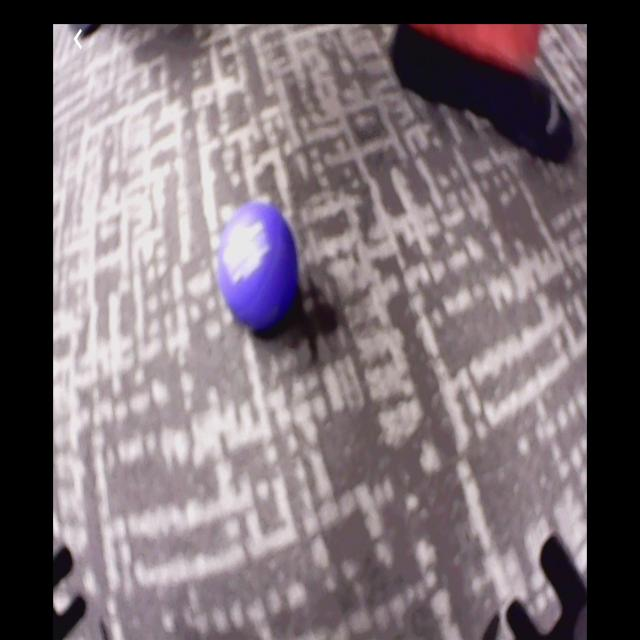ball: (220, 209, 299, 329)
